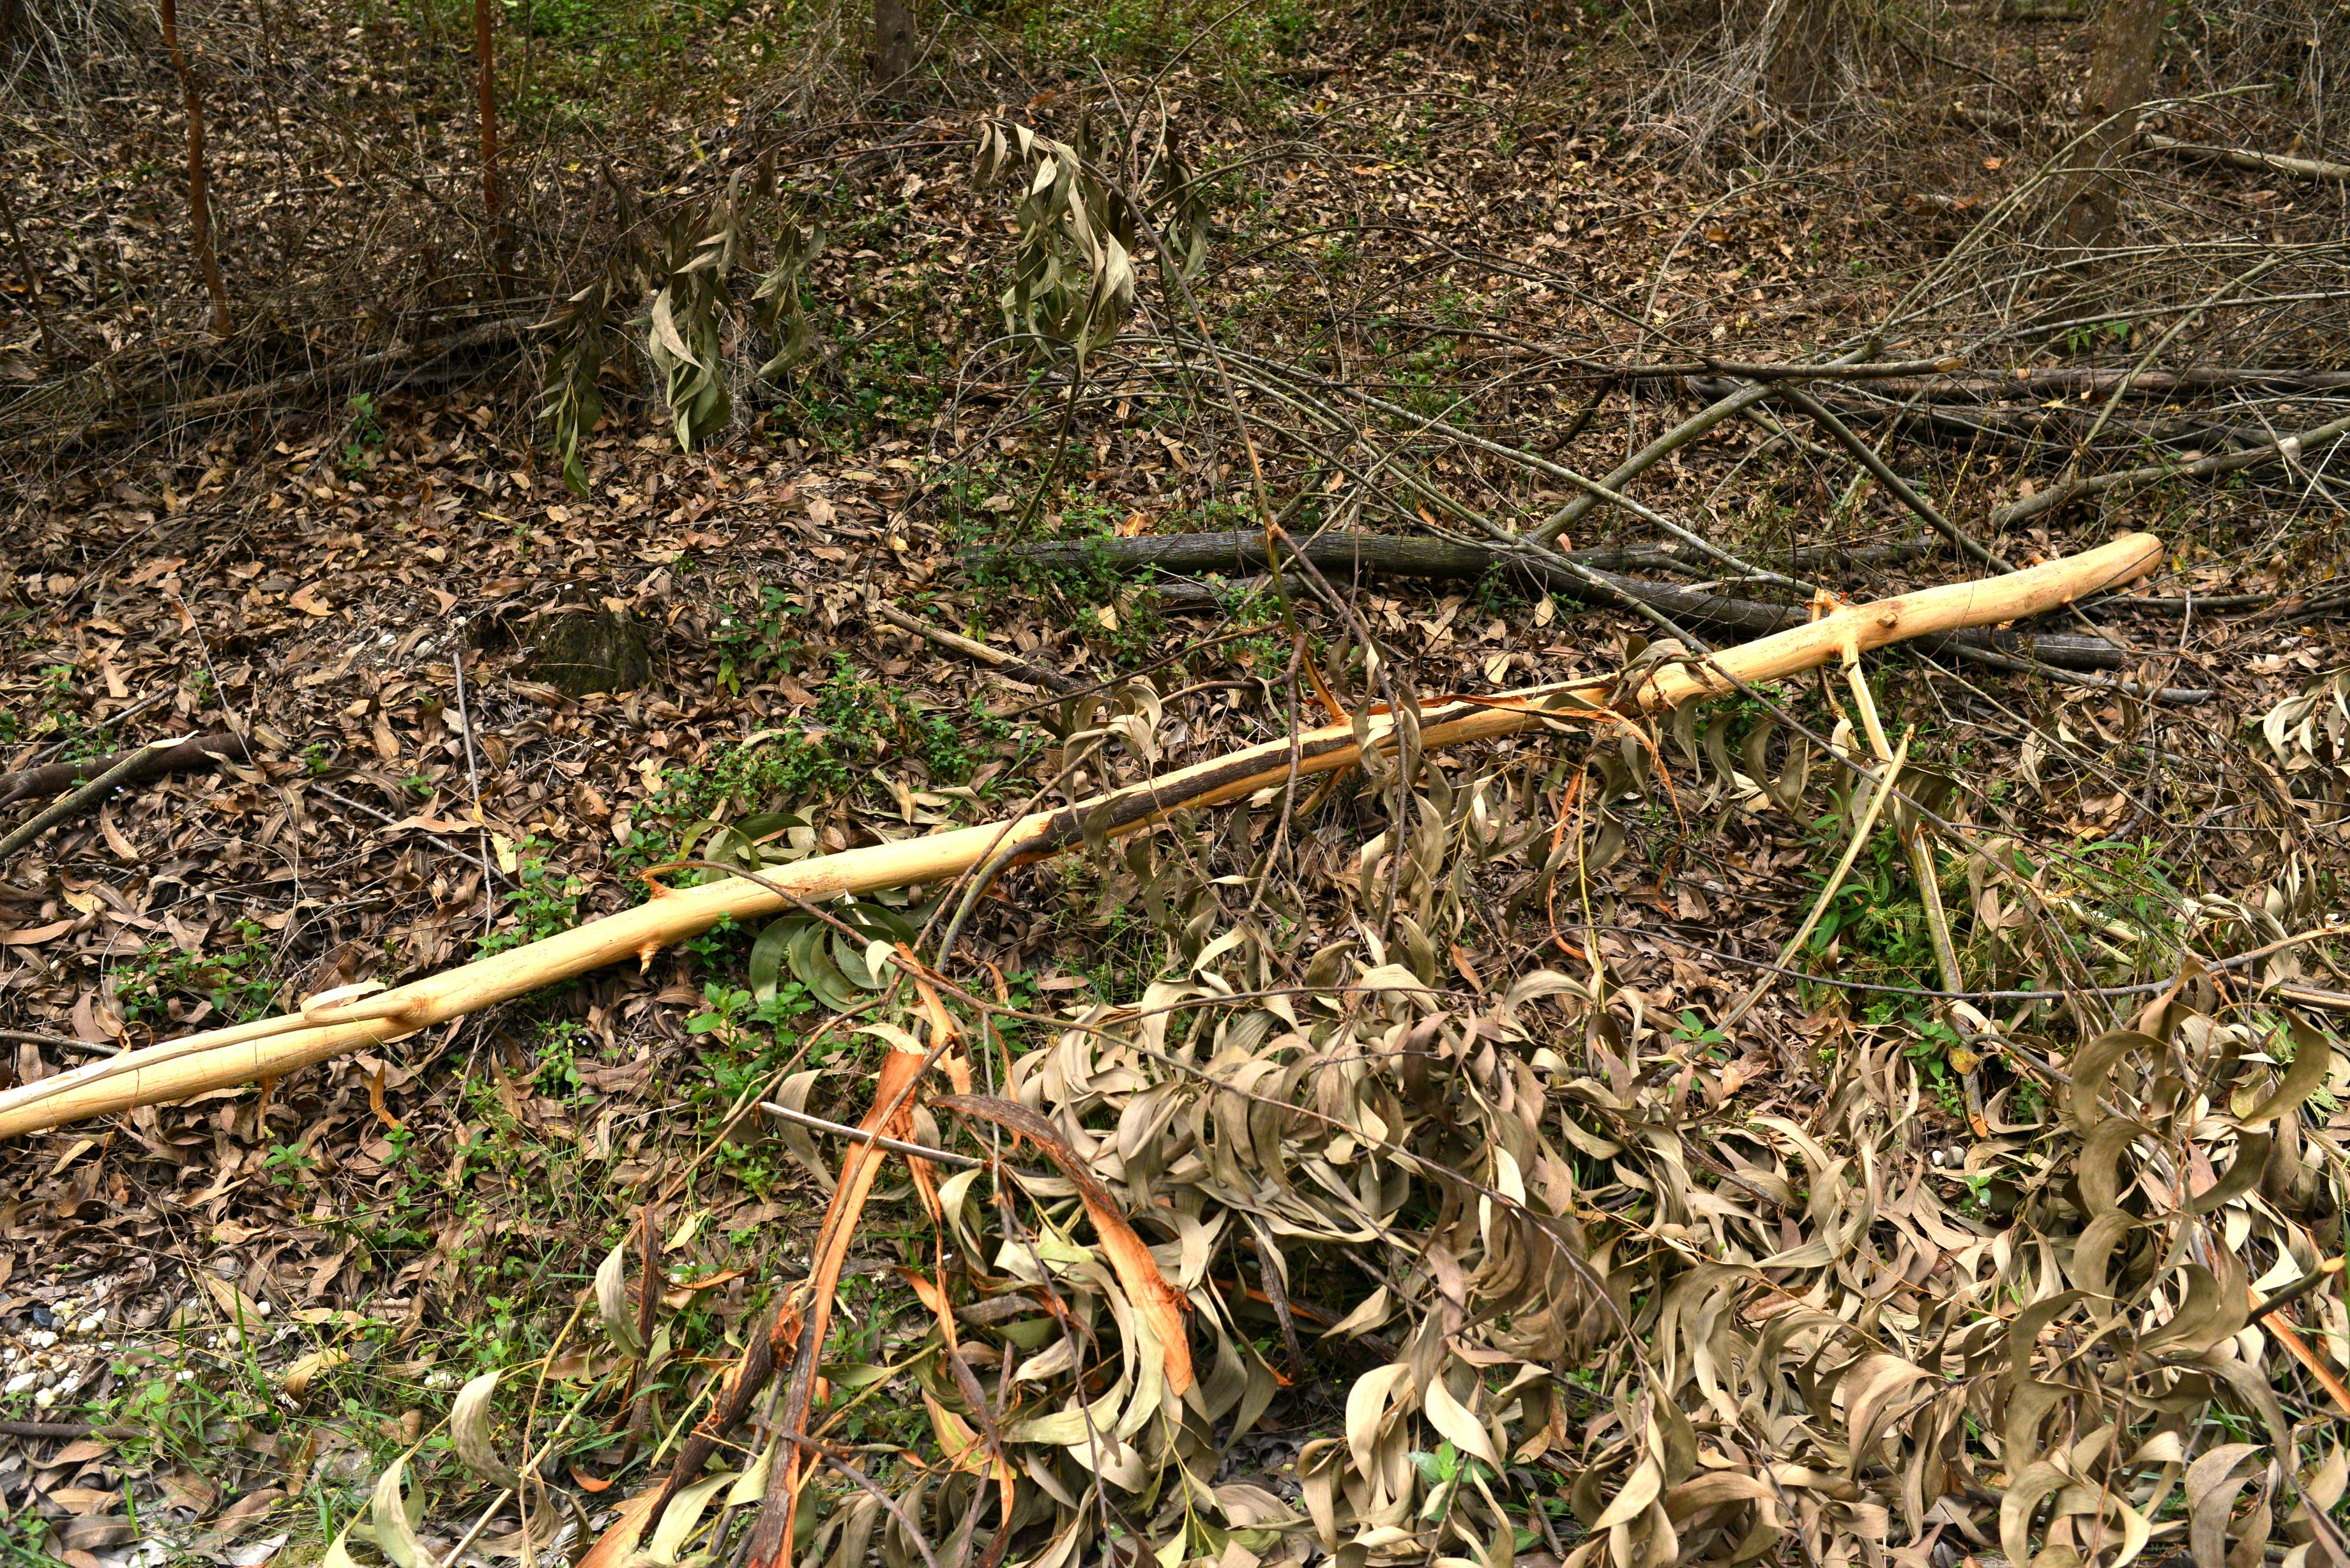Mammals Attack: (7, 530, 2165, 1141)
